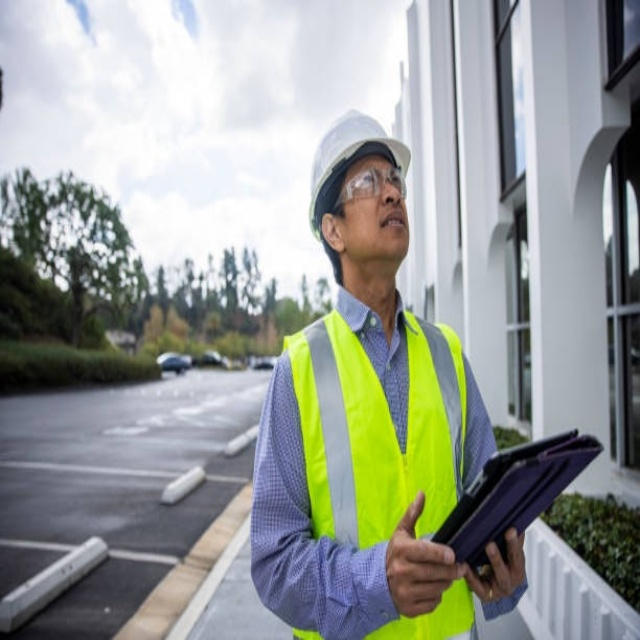Gafas: (334, 165, 409, 208)
Sin_guantes: (384, 488, 466, 620), (463, 522, 528, 609)
Sin_mascara: (375, 207, 409, 246)
